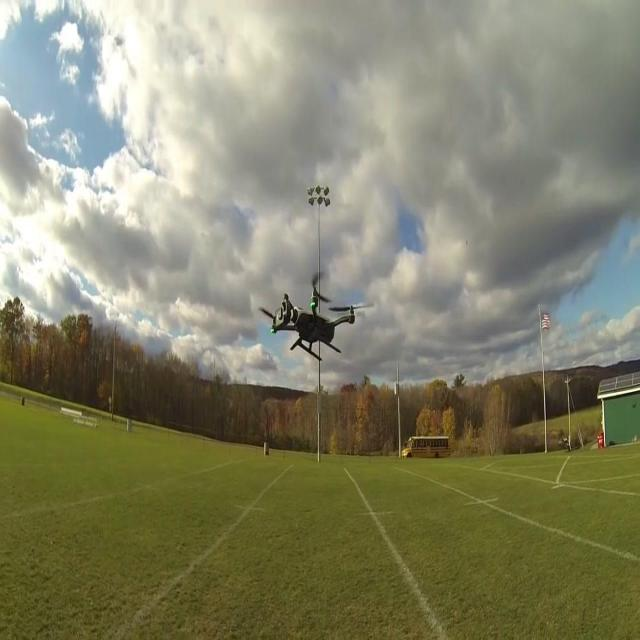UAV: (258, 272, 374, 361)
